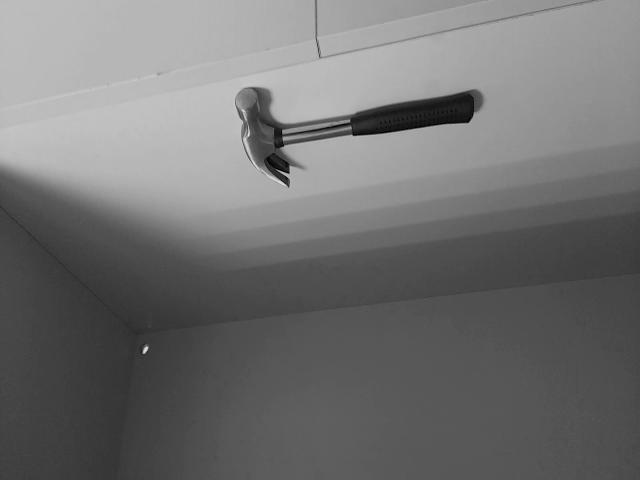Hammer: (235, 88, 474, 187)
